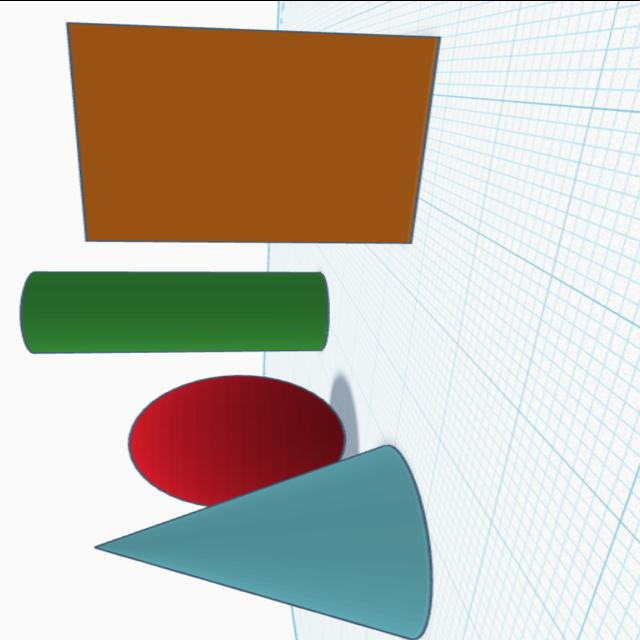cone: (88, 441, 438, 640)
cube: (61, 17, 458, 245)
